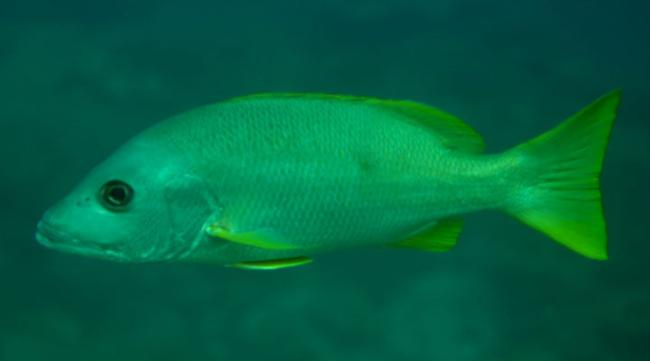fish: (33, 92, 621, 271)
